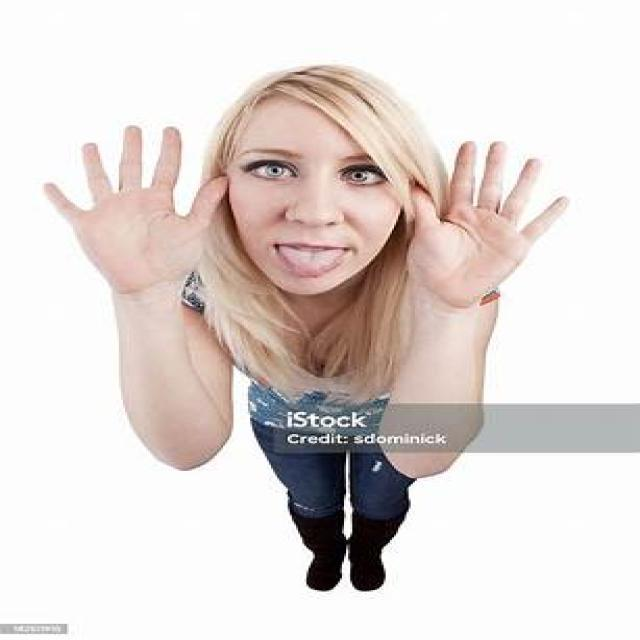not-gloved: (55, 113, 228, 290), (404, 138, 582, 300)
